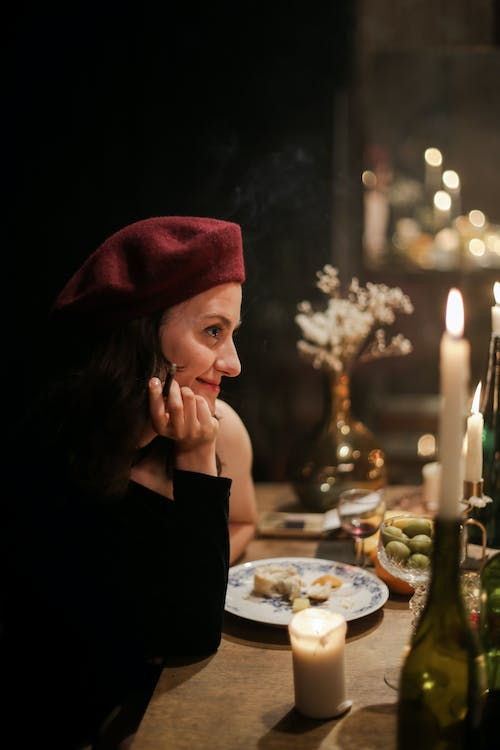alcohol: (335, 485, 389, 572)
cigarette: (158, 359, 178, 402)
